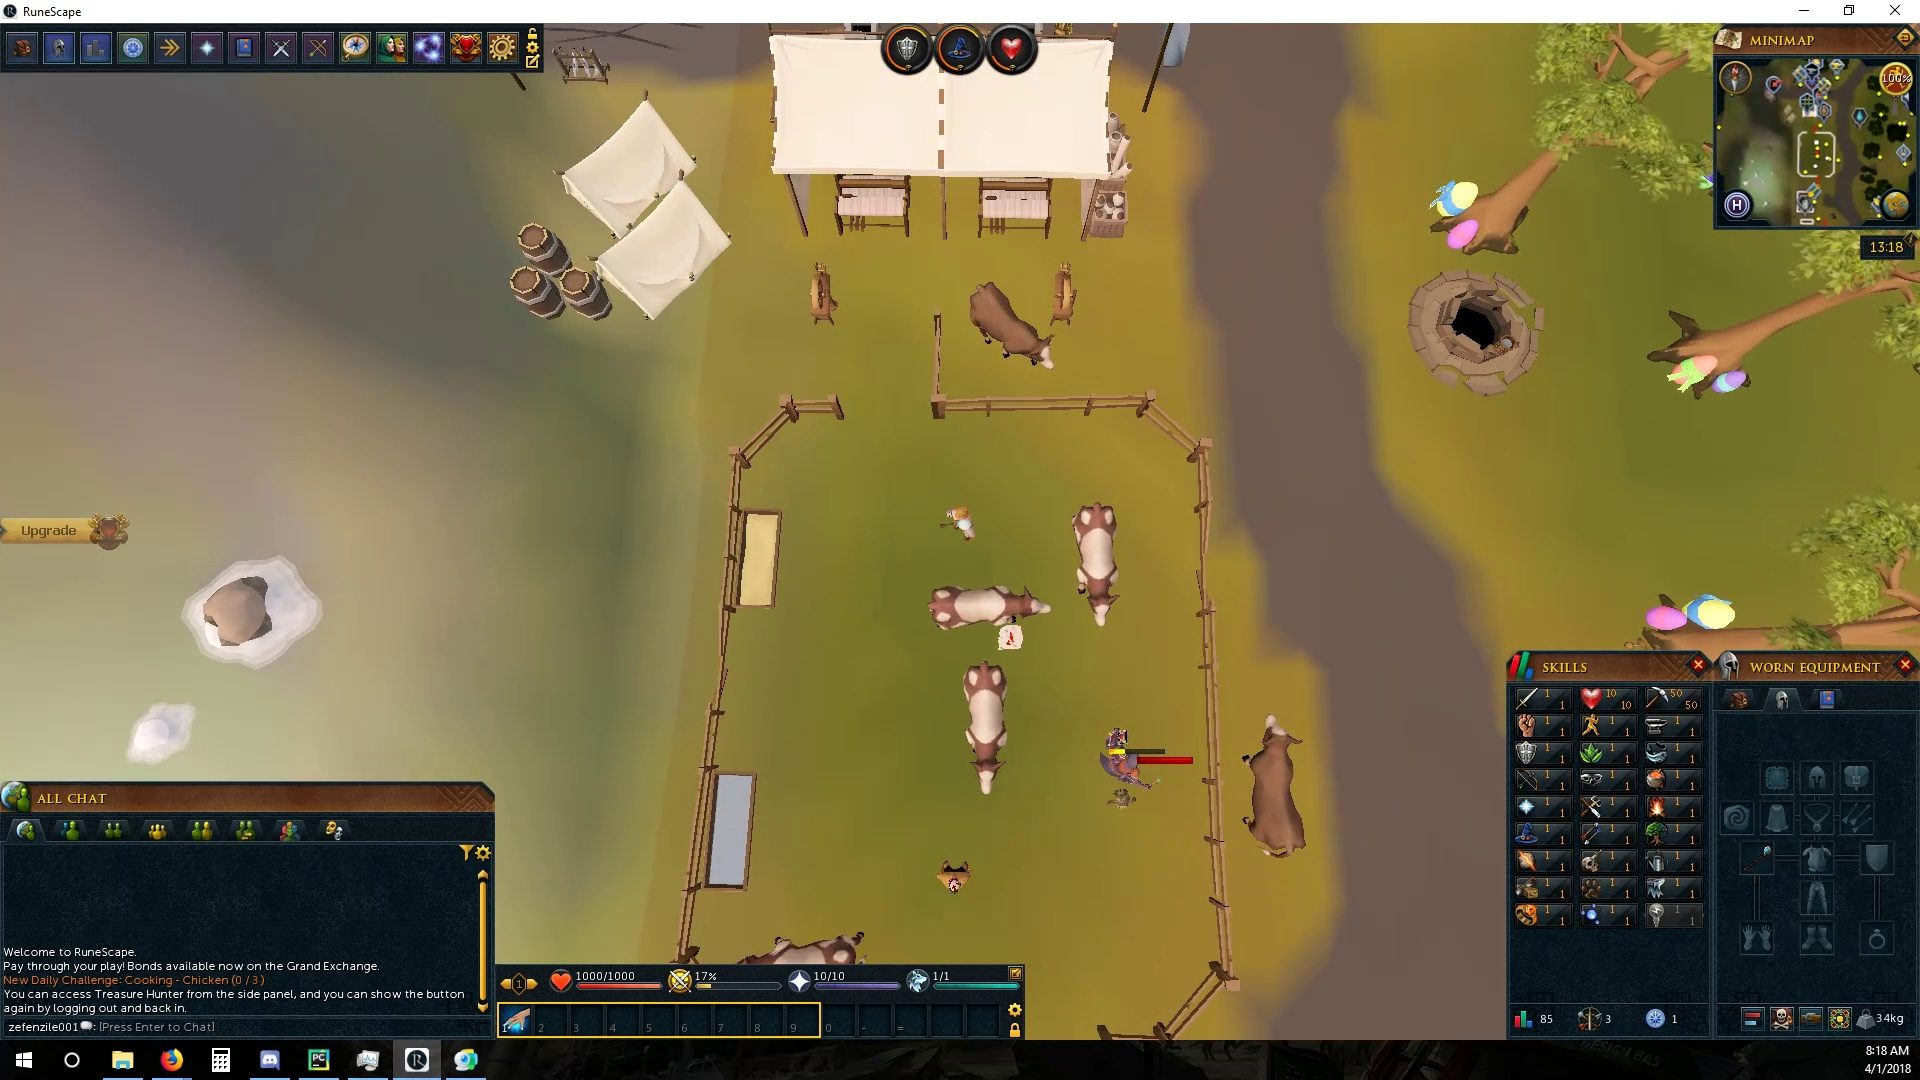cow: (1240, 708, 1312, 861), (965, 276, 1058, 375), (961, 659, 1011, 796), (928, 579, 1055, 633), (1069, 500, 1124, 626), (731, 928, 874, 965)
cow_drop: (996, 621, 1026, 650)
